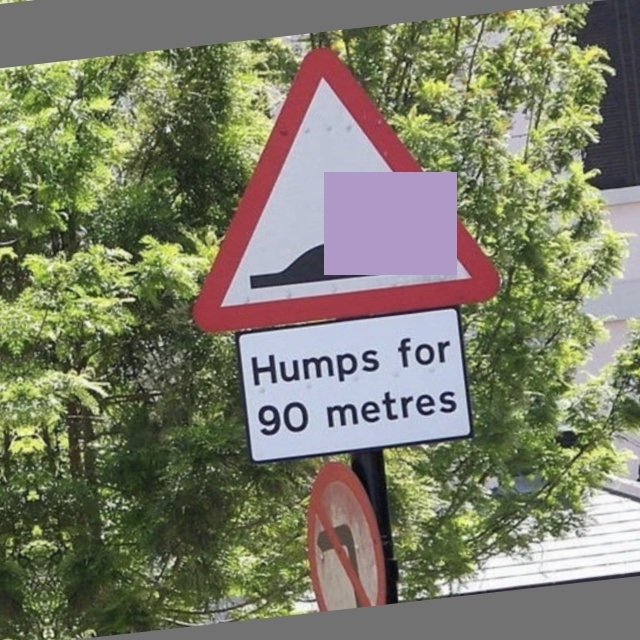Hump_or_Rough_Road: (178, 37, 483, 329)
